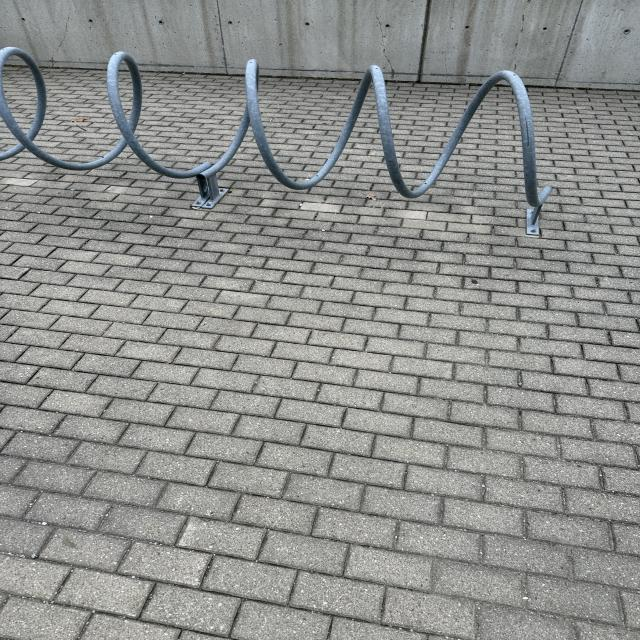Bicycle Rack: (0, 50, 556, 242)
